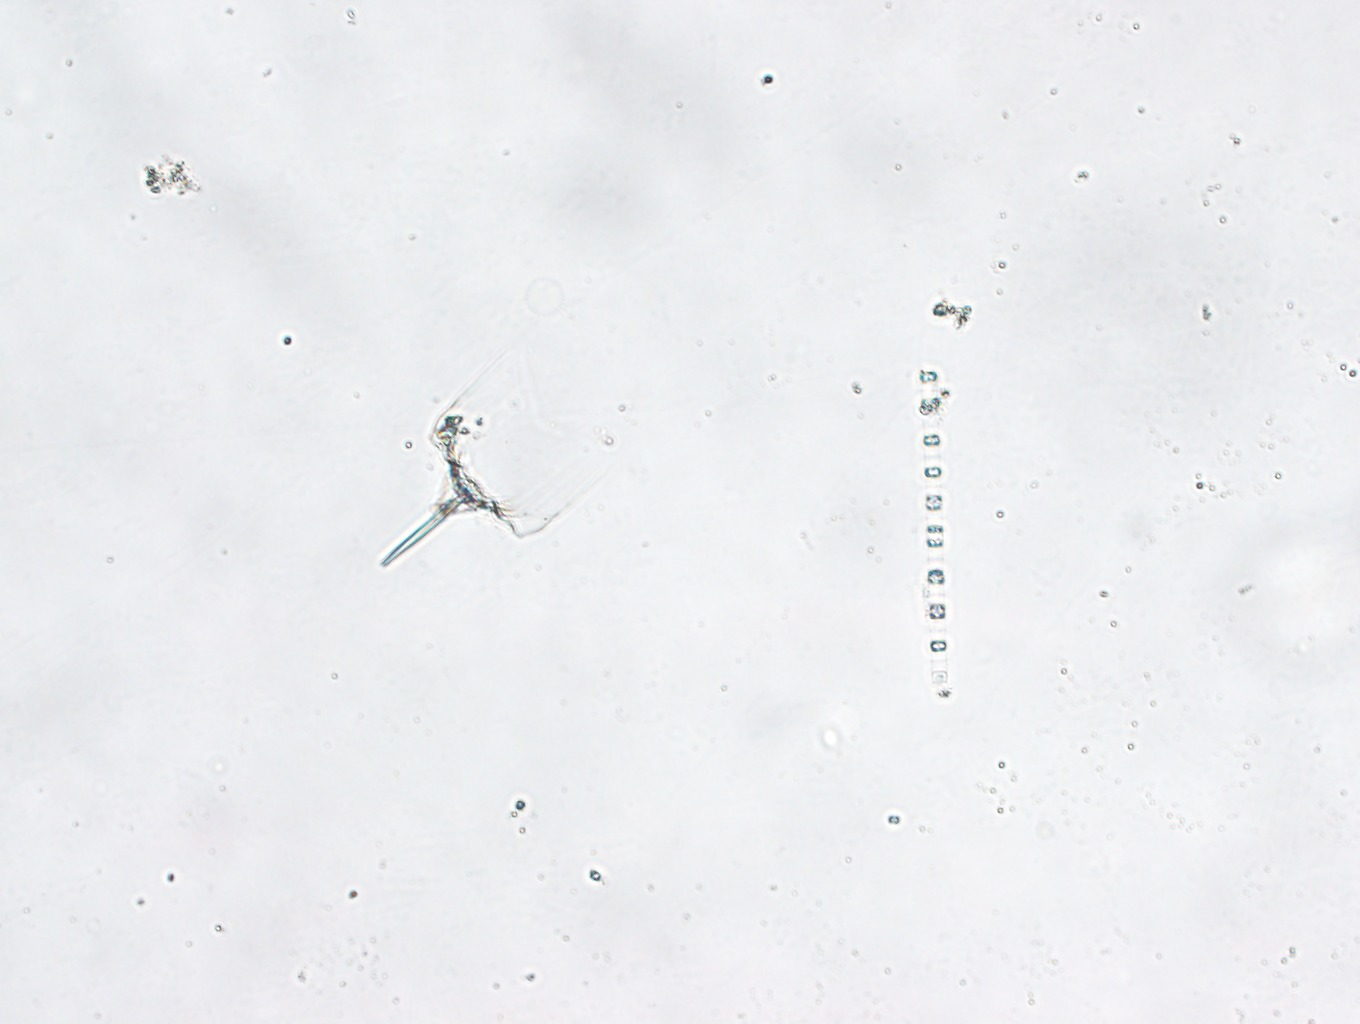ditylum: (380, 355, 599, 570)
skeletonema: (916, 366, 951, 696)
